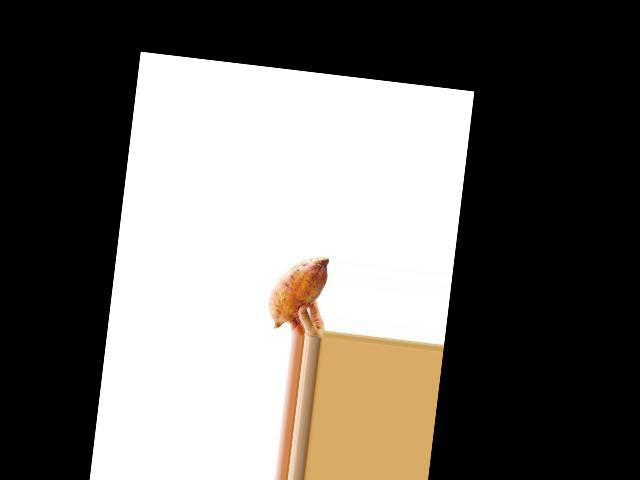sweet_potato: (261, 248, 332, 331)
